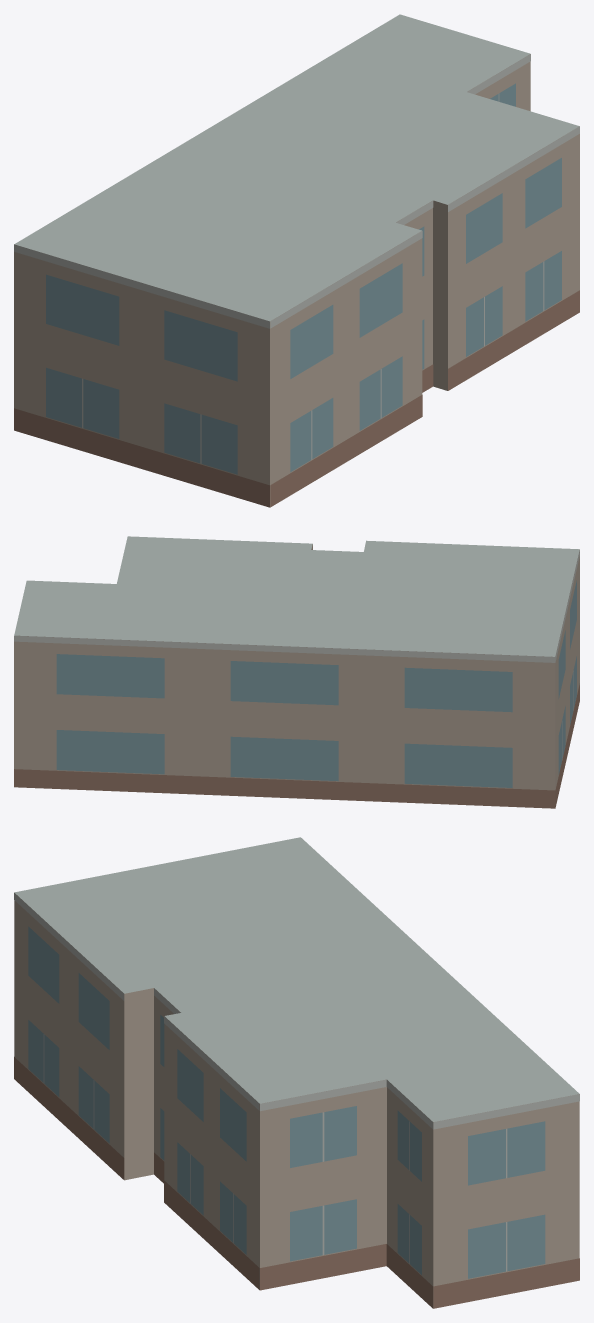
File: survey-upis-33030893.glb
3 renders of one model, top to bottom at view 1: azimuth 30°, elevation 25°; view 2: azimuth 150°, elevation 25°; view 3: azimuth 270°, elevation 25°, orthographic. The views are drawn at different scales.
Visible parts, largest first — view 1: survey-upis-33030893.tmp; view 2: survey-upis-33030893.tmp; view 3: survey-upis-33030893.tmp.
Part boxes in pixels (bbox=[...]): survey-upis-33030893.tmp: bbox=[14, 14, 579, 507]; survey-upis-33030893.tmp: bbox=[14, 536, 579, 808]; survey-upis-33030893.tmp: bbox=[14, 837, 579, 1308].
Bounding box in the file's own units: 19.99 × 6.1 × 16.77.
